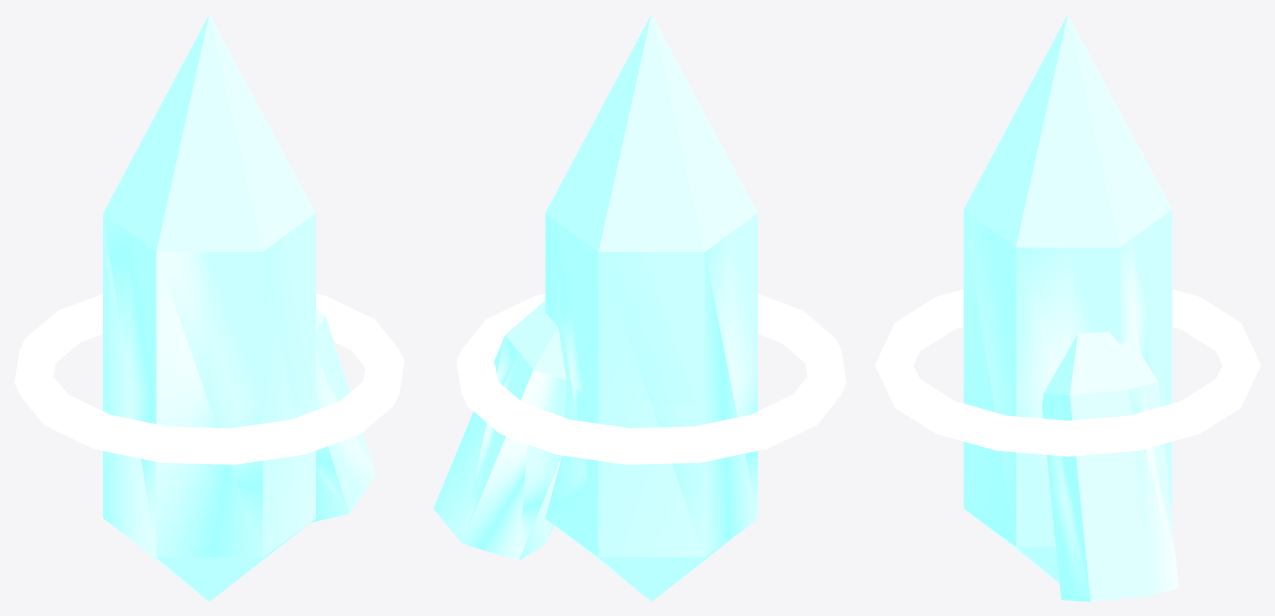
File: crystal3.glb
3 renders of one model, left to right at view 1: azimuth 30°, elevation 25°; view 2: azimuth 150°, elevation 25°; view 3: azimuth 270°, elevation 25°, orthographic.
Visible parts, largest first — view 1: JewelShaft; view 2: JewelShaft; view 3: JewelShaft.
Part boxes in pixels (<box>): JewelShaft: <box>14,14,404,601</box>; JewelShaft: <box>433,14,846,601</box>; JewelShaft: <box>875,14,1260,601</box>.
Size of the model in its own units: 1.14 by 1.83 by 1.11.
